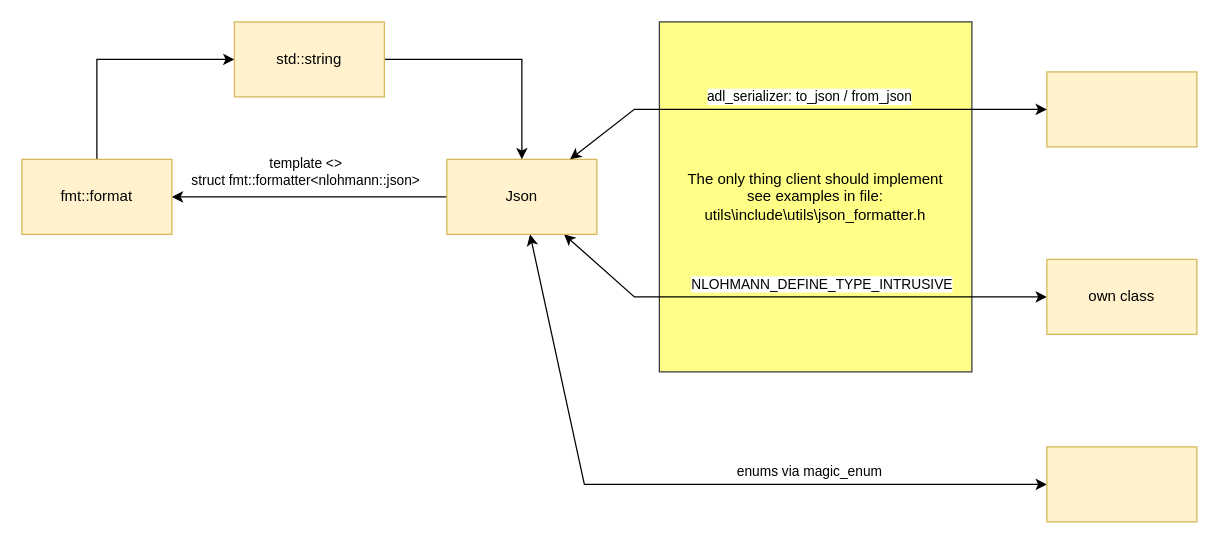
Image size: 1219x544. Some labels were removed from this diagram. The shapes that lost their labels are listed below. From the top down, each one's centre as x and y in pixels, then its label:
point 1121,109: thirdparty class
point 1121,484: enums
